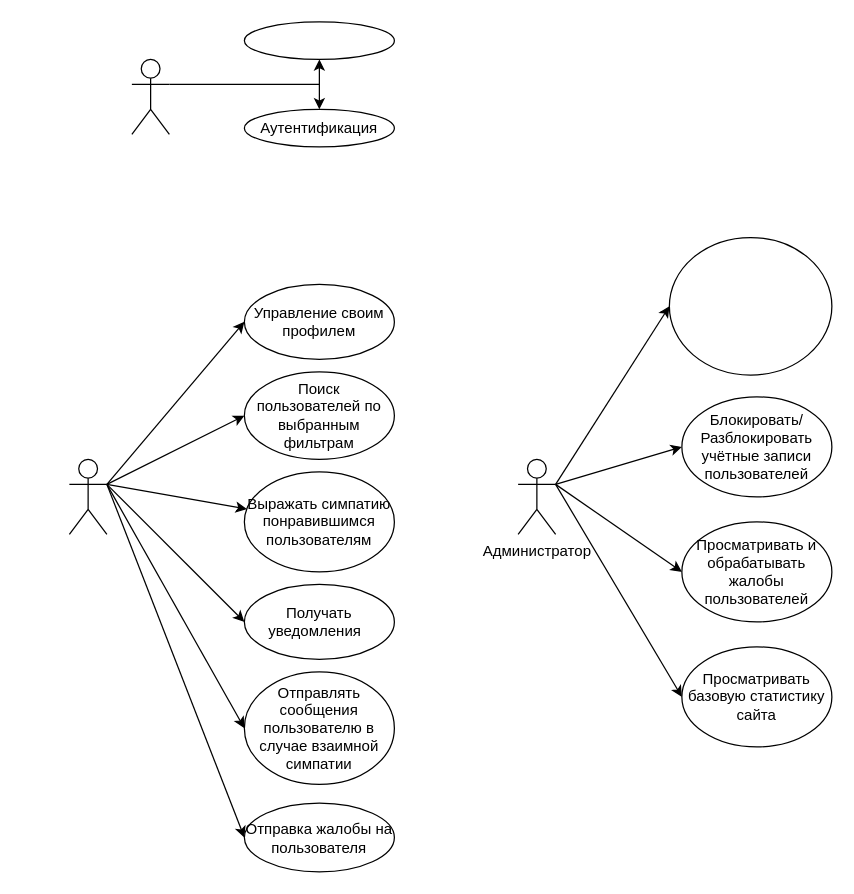
Image size: 854x894. Some labels were removed from this diagram. Here are the shapes that lost their labels. From the top down, the centre of each, then its label:
the point at 318,40: Авторизация
the point at 150,96: Неавторизированный пользователь
the point at 750,305: Просматривать список зарегистрированных пользователей и информацию о них
the point at 87,496: Авторизированный пользователь
